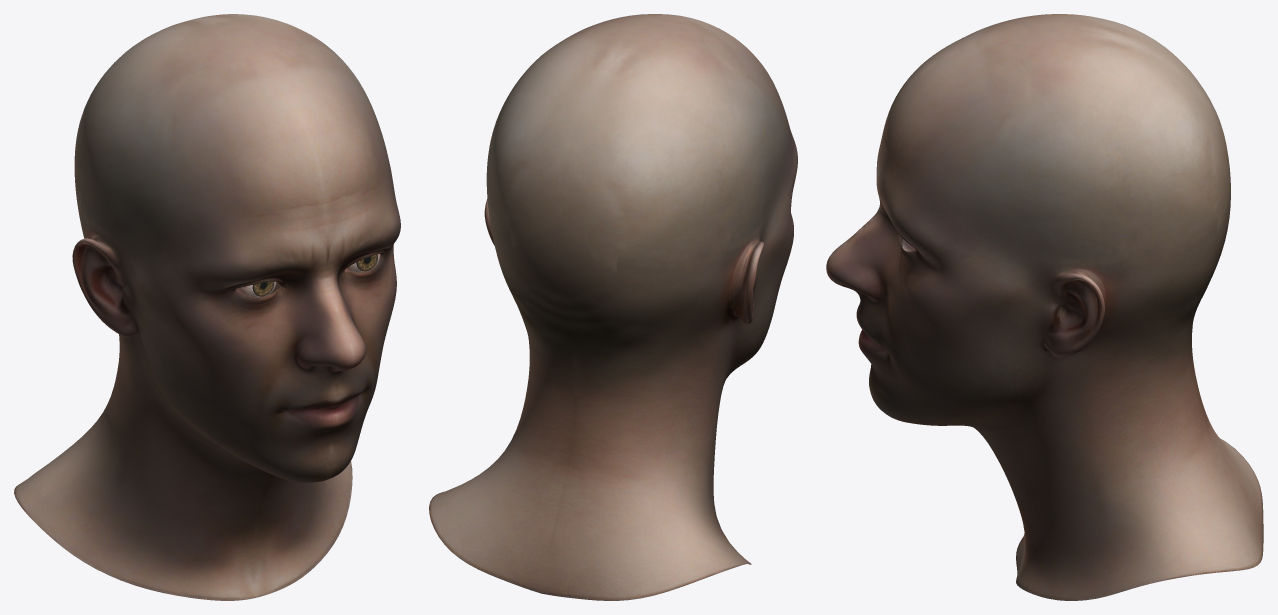
Rendered from head_eyes_v1.glb.
3 views of the same model, side by side, from view 1: azimuth 30°, elevation 25°; view 2: azimuth 150°, elevation 25°; view 3: azimuth 270°, elevation 25° (orthographic). The views are drawn at different scales.
Visible parts, largest first — view 1: Head; view 2: Head; view 3: Head.
Boxes of the visible parts, x1=… form: Head: x1=14, y1=14, x2=400, y2=600; Head: x1=429, y1=14, x2=797, y2=600; Head: x1=826, y1=14, x2=1263, y2=600.
Bounding box in the file's own units: 2.09 × 3.5 × 2.55.
Materials: 4 (3 with a texture image).
